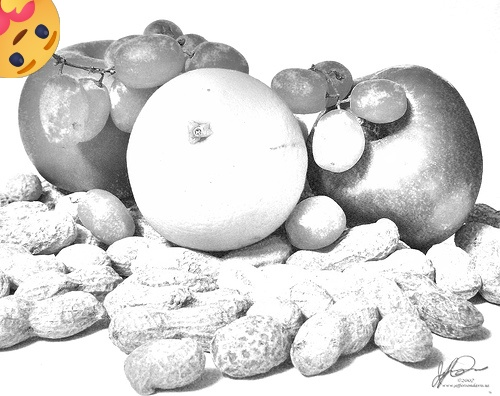care: (0, 0, 60, 78)
